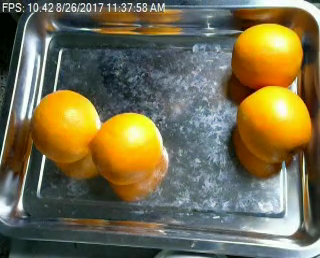Orange: (236, 84, 311, 163), (91, 111, 164, 185), (30, 89, 99, 163), (232, 22, 302, 90)
